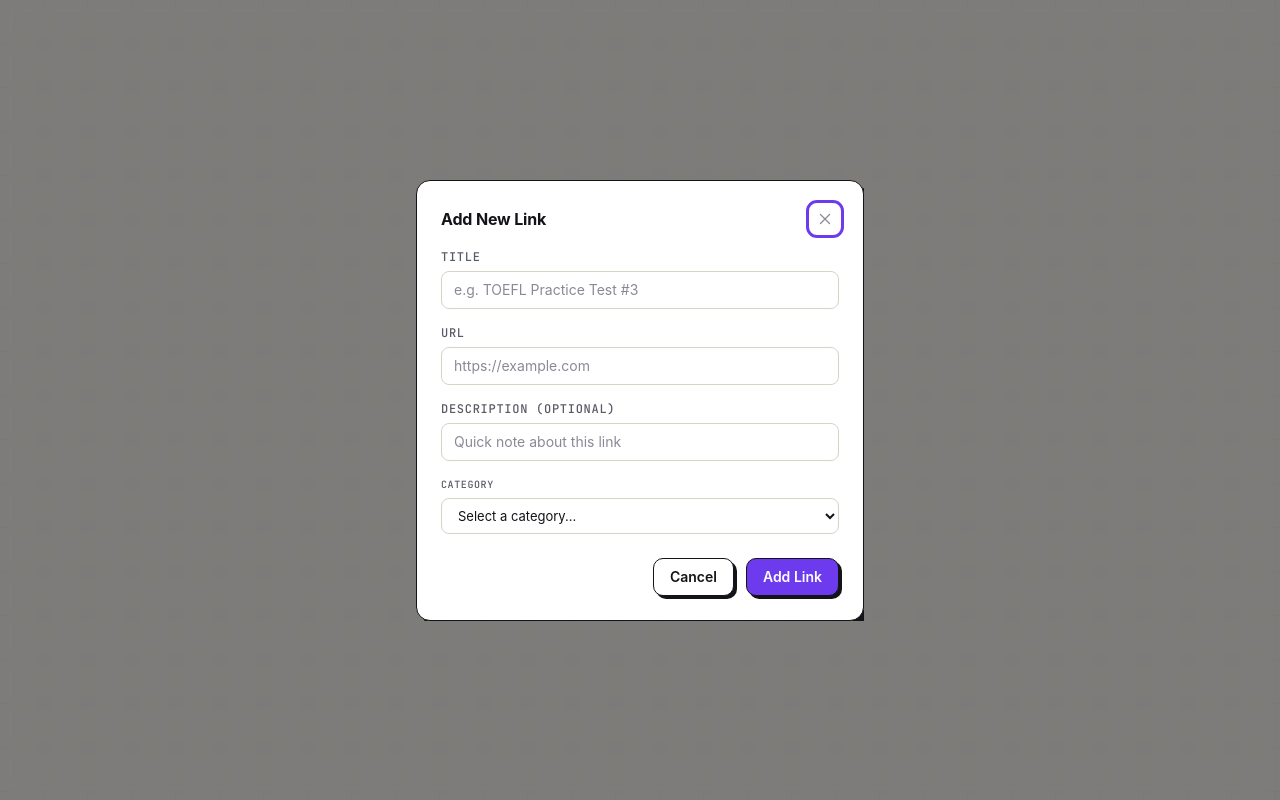
AddLinkModal accessibility › requires category selection when no preset is given
Step 1. Type "X" into the field labelled "Title" → (640, 290), box x1=441 y1=270 x2=839 y2=308
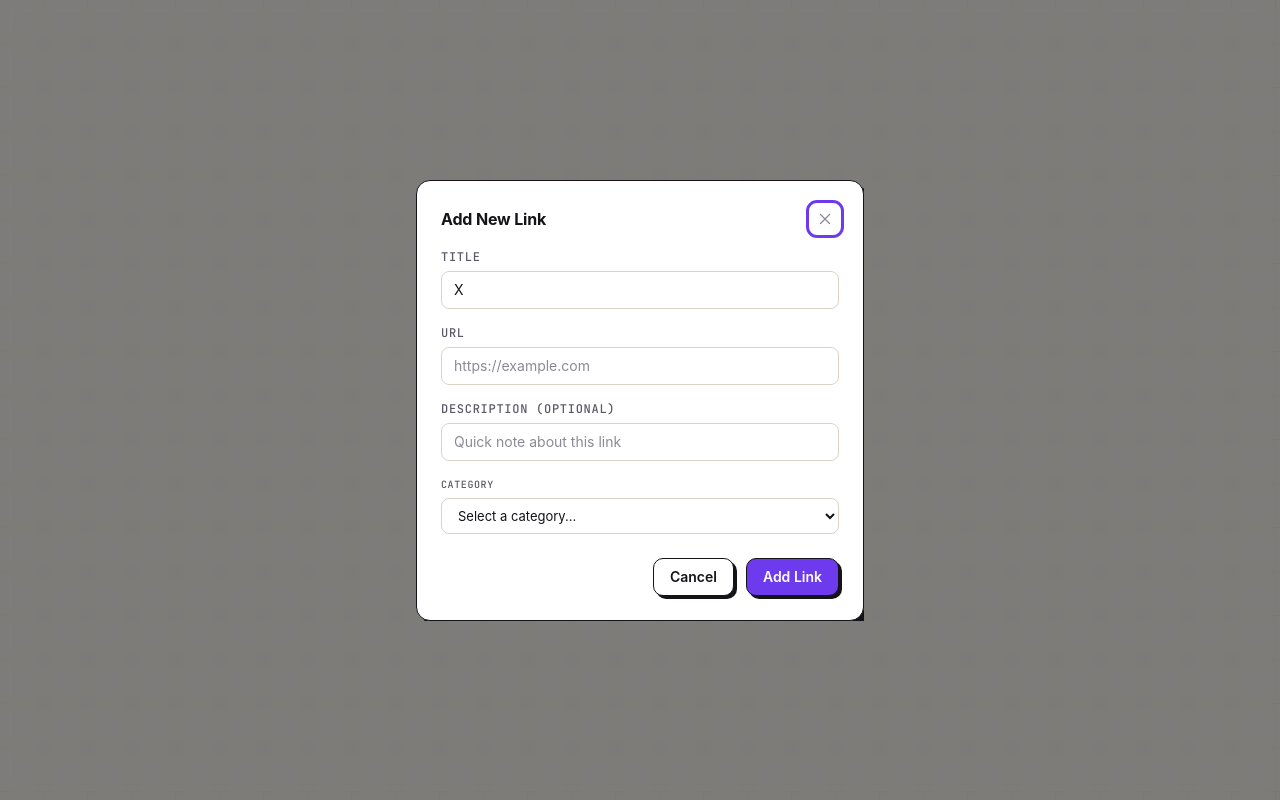
Step 2. Type "https://x.com" into the field labelled "URL" → (640, 366), box x1=441 y1=346 x2=839 y2=384
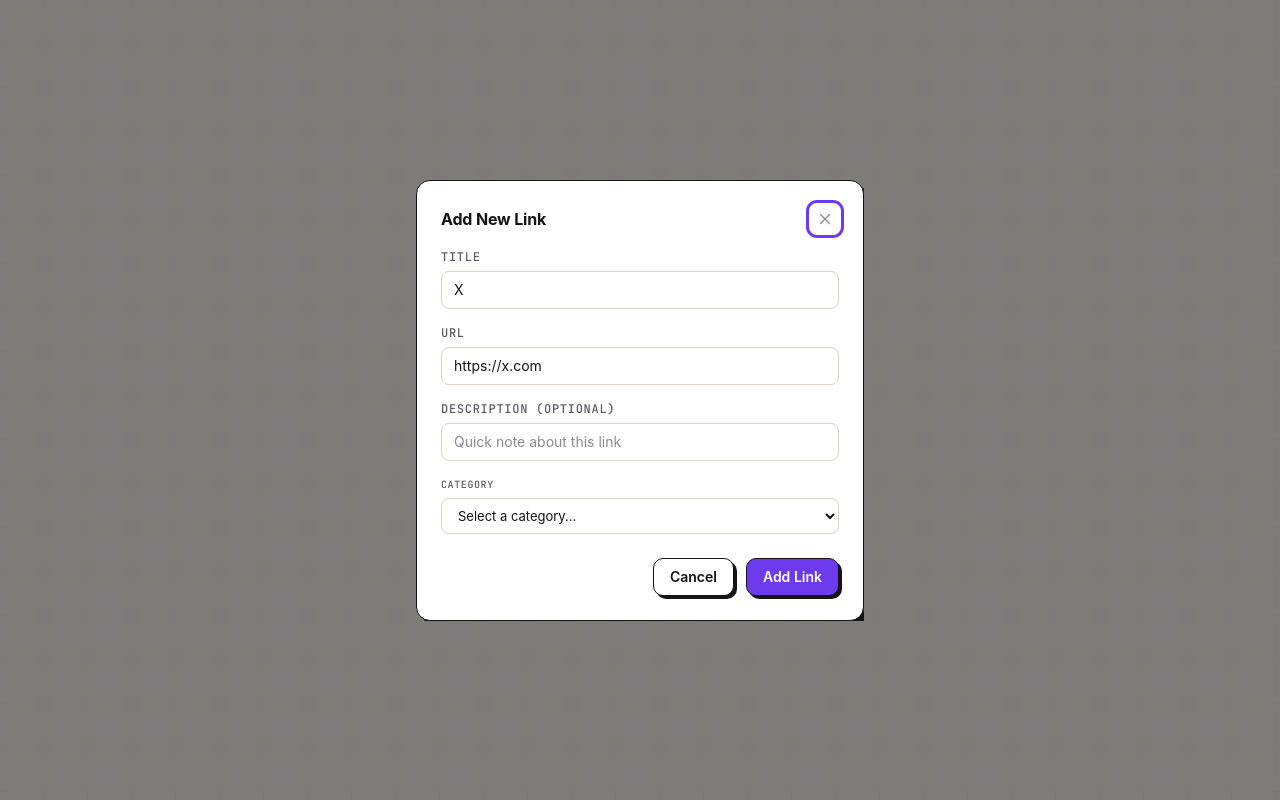
// Submit without picking a category
Step 3. Click the button "Add Link" → (792, 576), box x1=746 y1=558 x2=839 y2=596
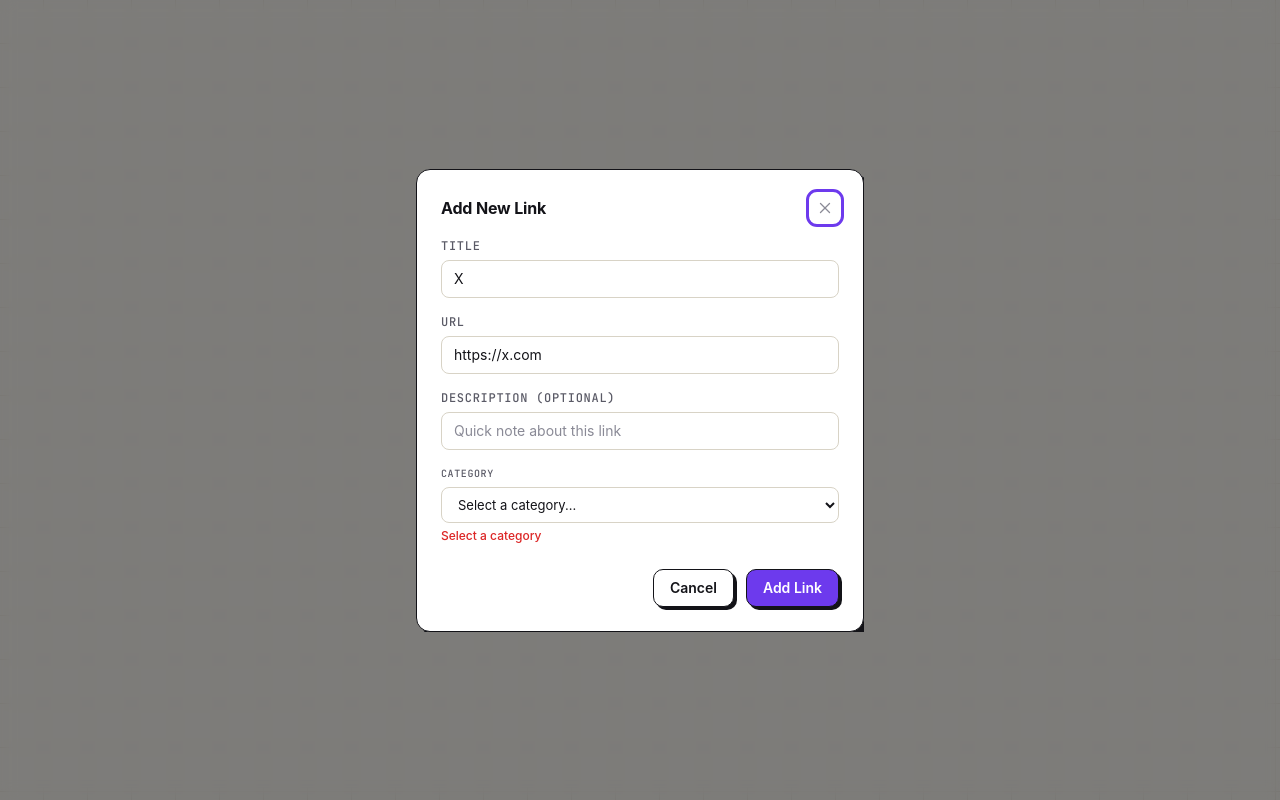
Expected: the text "Select a category" is shown, x1=441 y1=528 x2=541 y2=542
